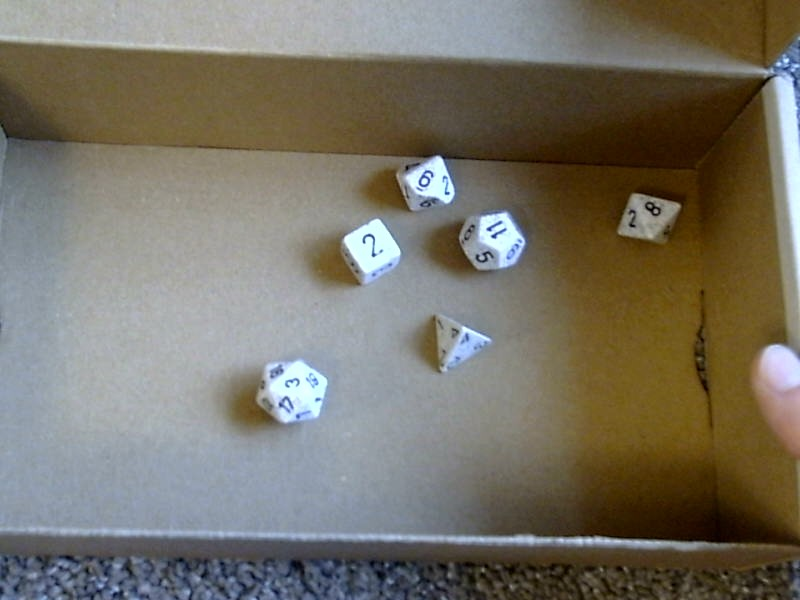d10 6: (390, 147, 463, 214)
d12 11: (454, 208, 530, 278)
d20 3: (250, 354, 337, 434)
d4 4: (424, 309, 495, 380)
d6 2: (330, 213, 405, 292)
d8 8: (611, 184, 691, 249)
